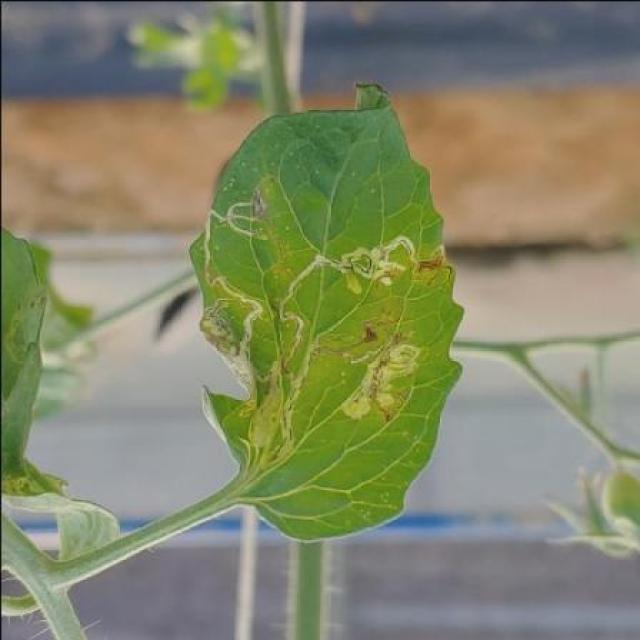Leaf Miner: (185, 82, 465, 544)
